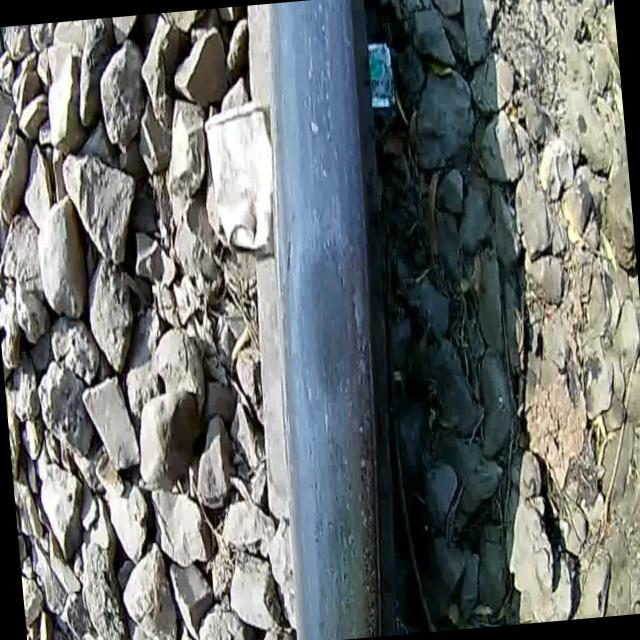Squats: (220, 0, 429, 640)
